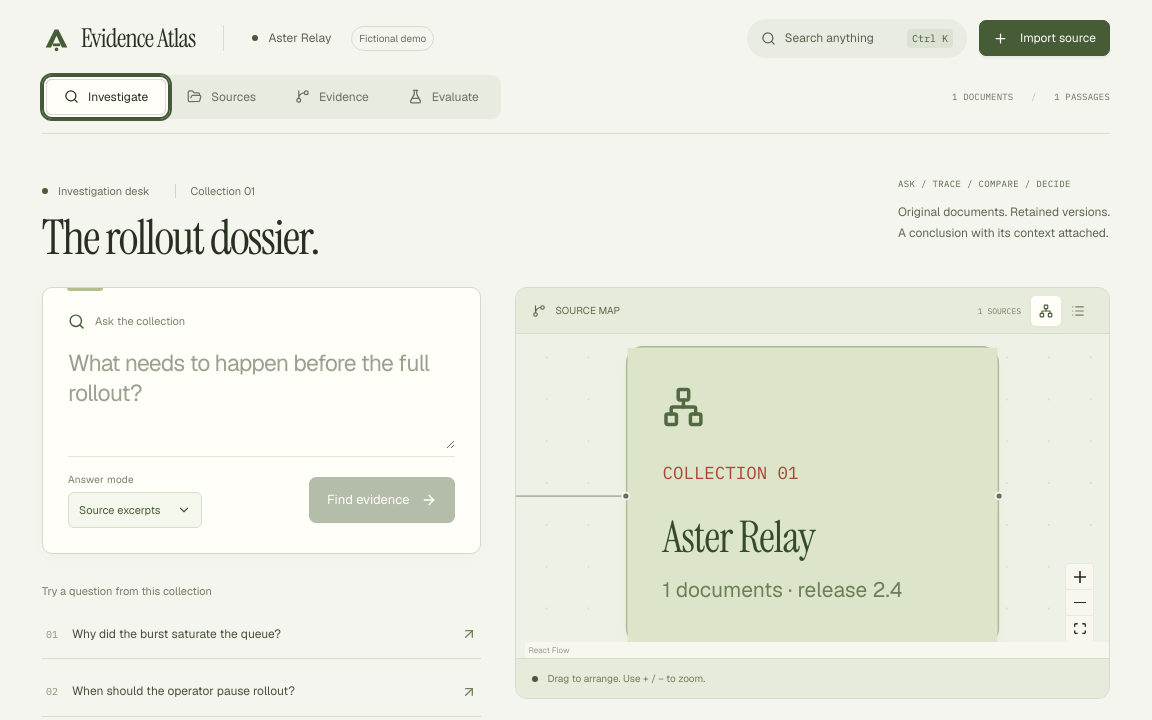
supports arrow-key navigation and recovery from an empty library filter
The image size is (1152, 720).
Press Arrowright
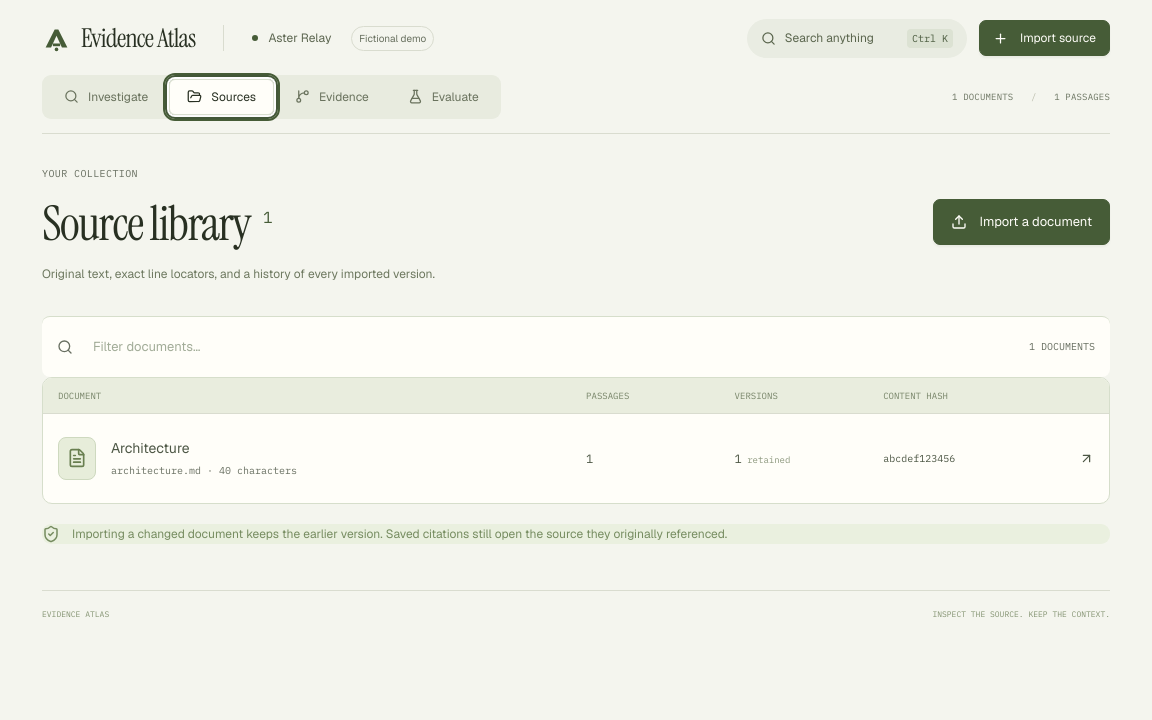
Expected: the tab "Sources" is selected, [169,78,274,114]
Type "missing-file" into the field named "Filter source library" at point(551, 347), box [85,329,1017,365]
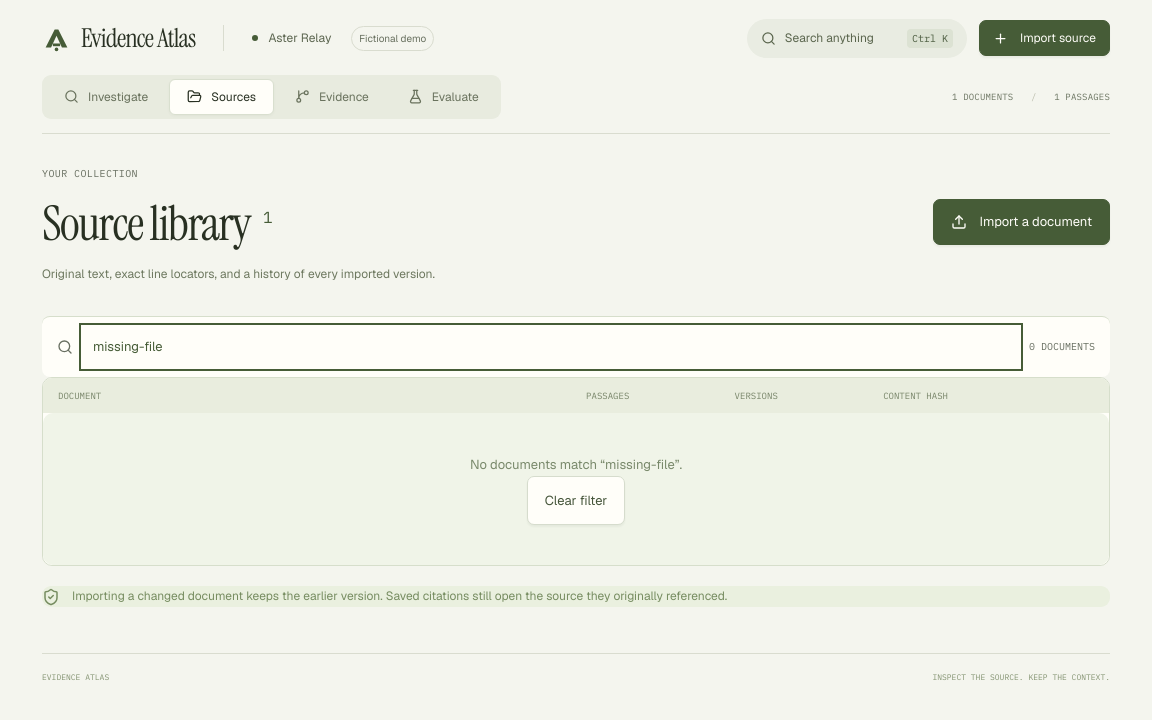
Expected: the text "No documents match “missing-file”." is shown, [470,456,682,473]
Click the button "Clear filter" at point(576, 501), box [527,476,625,526]
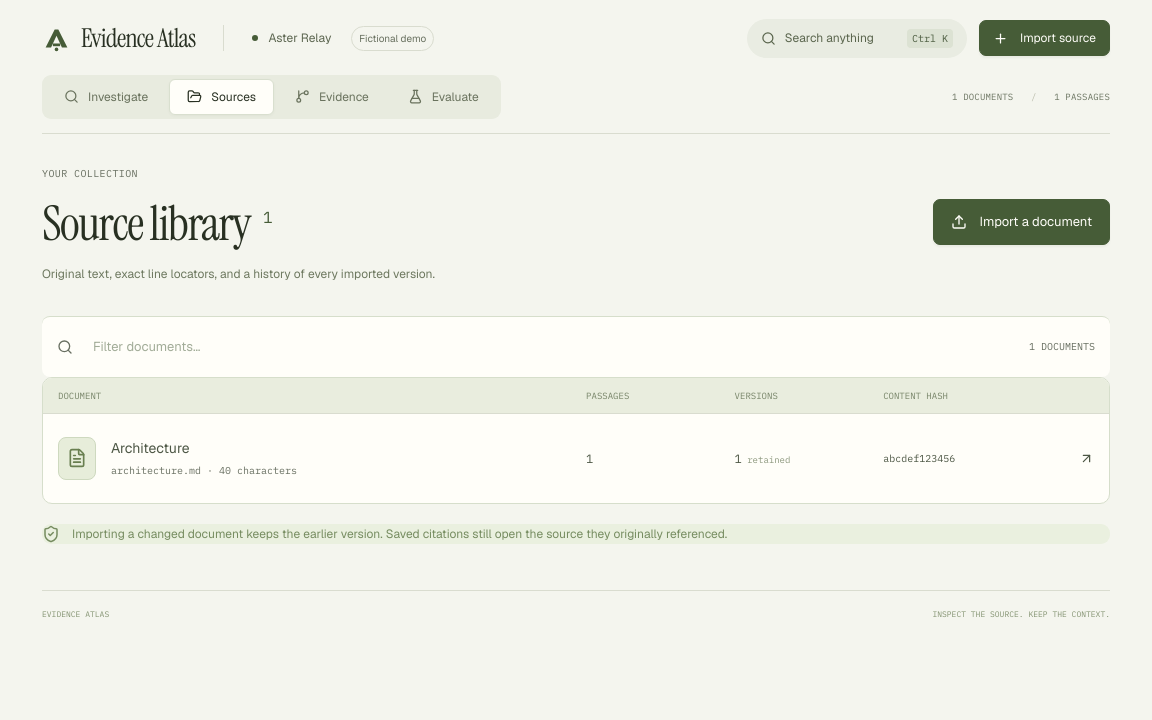
Expected: the text "architecture.md · 40 characters" is shown, [111,464,297,477]
